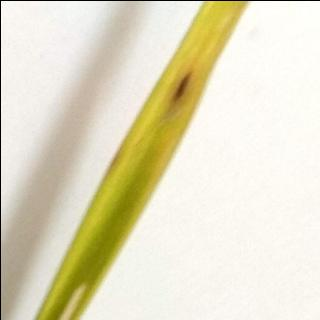bercak-Cokelat: (160, 66, 194, 106)
